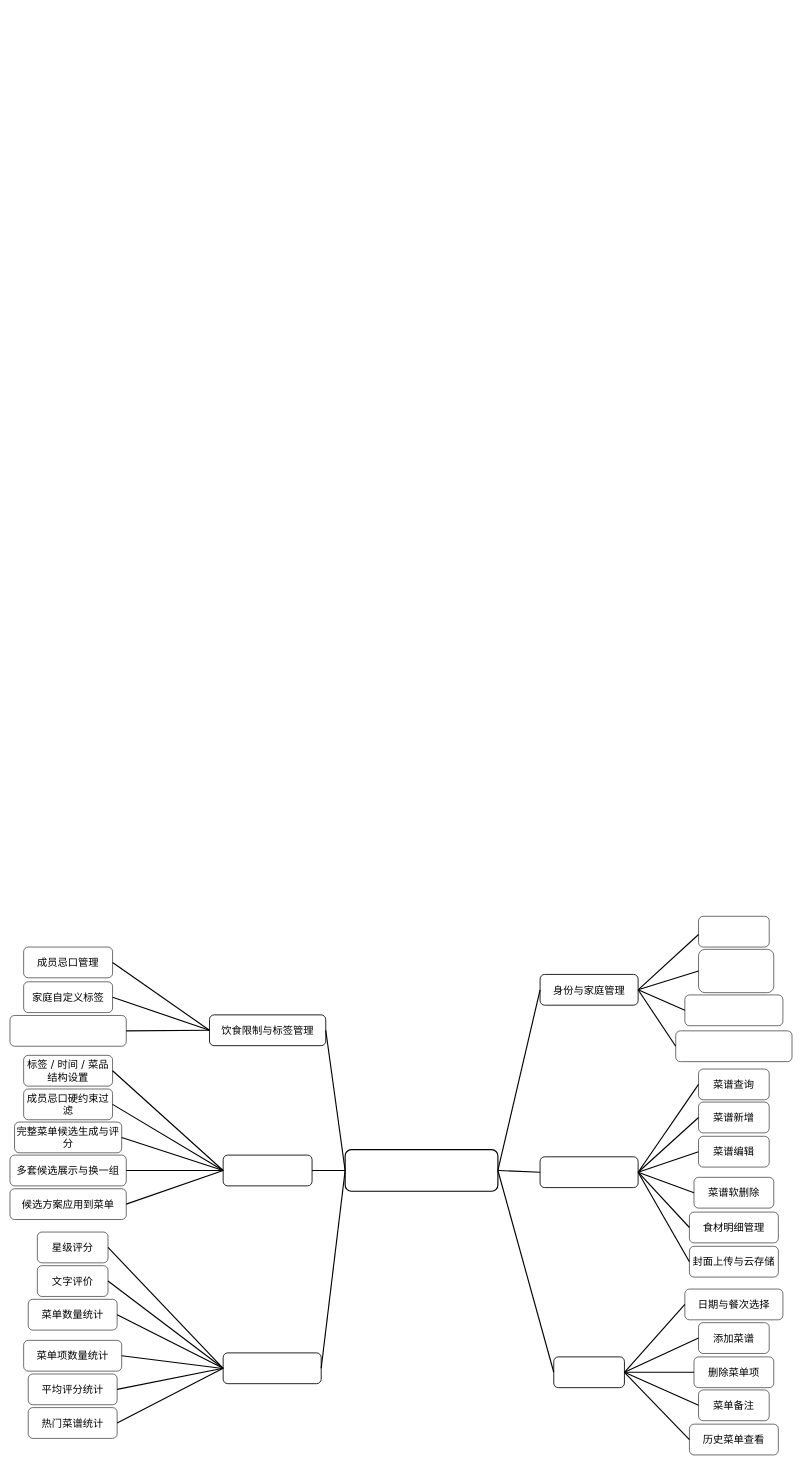
The diagram is 802 pixels wide and 1465 high, and some of its shapes have lost their labels. Here are the shapes that lost their labels. From the top down, the box of each, then its label:
(698, 916, 769, 947): 微信登录
(698, 949, 774, 993): 创建家庭 初始化 Starter Recipes
(684, 994, 783, 1026): 邀请码加入家庭
(9, 1015, 126, 1046): 标签创建、改名与删除
(675, 1030, 792, 1062): 家庭信息、成员与头像
(222, 1154, 312, 1186): 菜谱推荐管理
(344, 1149, 498, 1192): 基于微信小程序的 家庭膳食管理与菜谱推荐系统
(539, 1156, 638, 1188): 菜谱与食材管理
(222, 1352, 321, 1384): 用餐反馈与统计
(553, 1356, 625, 1388): 菜单管理
